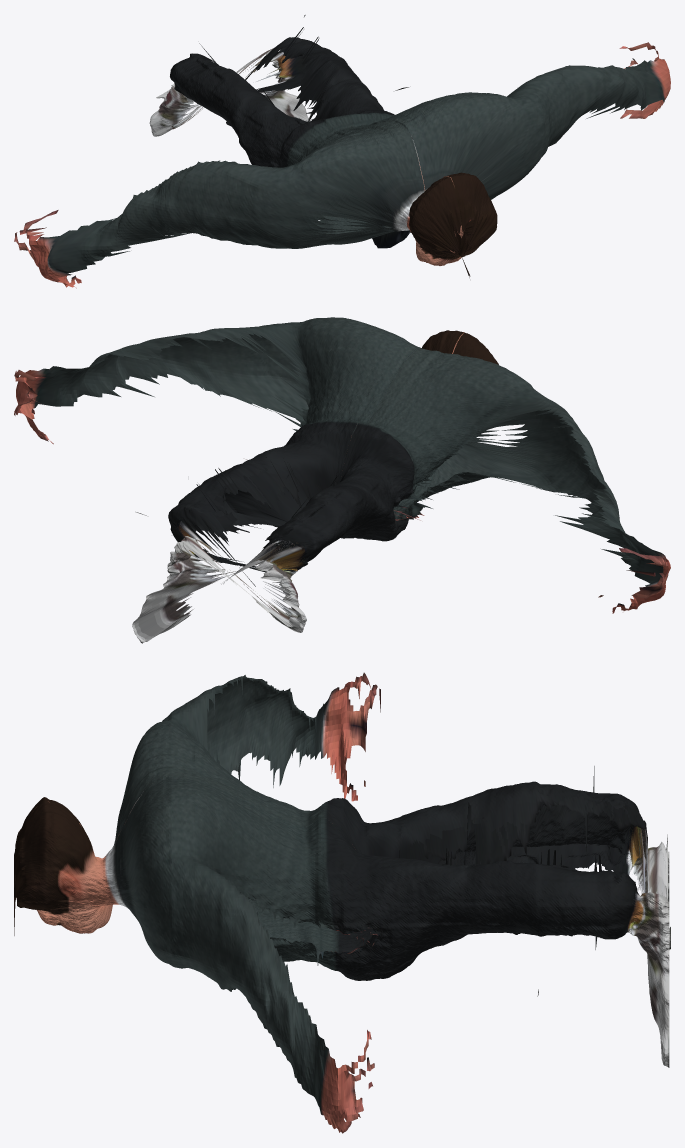
3 views of the same model, one above another, from view 1: azimuth 30°, elevation 25°; view 2: azimuth 150°, elevation 25°; view 3: azimuth 270°, elevation 25° (orthographic). The views are drawn at different scales.
Visible parts, largest first — view 1: geometry_0; view 2: geometry_0; view 3: geometry_0.
Boxes of the visible parts, x1,y1,x2,y2 form: geometry_0: (14, 15, 670, 288); geometry_0: (14, 317, 670, 643); geometry_0: (14, 672, 670, 1133).
Bounding box in the file's own units: 1.94 × 0.5343 × 1.26.
1 material, 1 textured.
